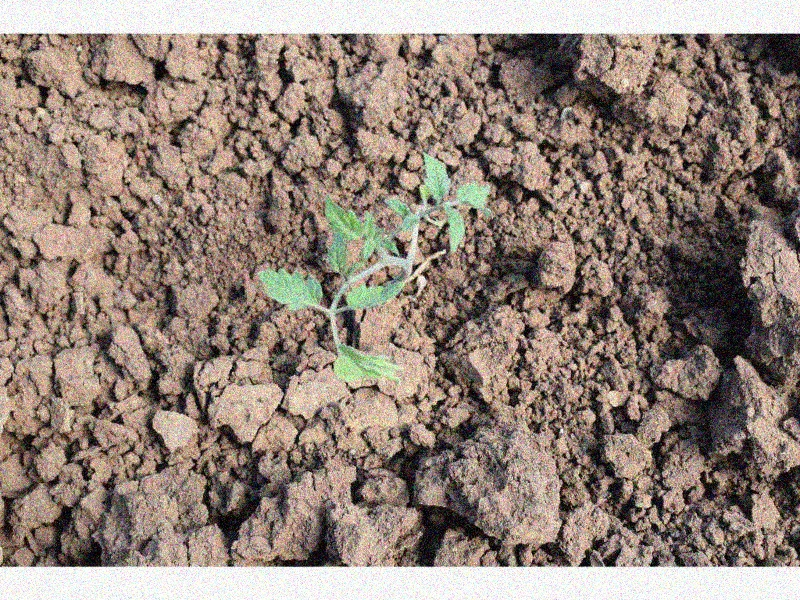tomato: (258, 155, 491, 384)
